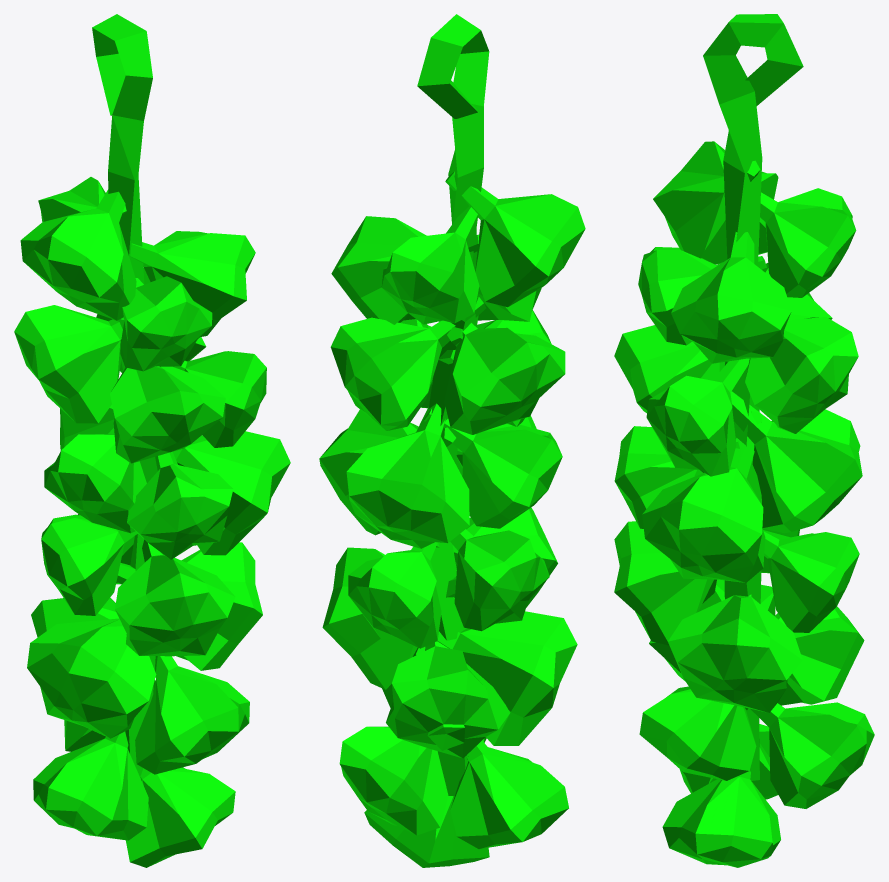
The model's file is SM_Garlic_Bunch.fbx.
3 views of the same model, side by side, from view 1: azimuth 30°, elevation 25°; view 2: azimuth 150°, elevation 25°; view 3: azimuth 270°, elevation 25° (orthographic). The views are drawn at different scales.
Parts seen in each view (by area): view 1: garlic-bunch; view 2: garlic-bunch; view 3: garlic-bunch.
Part boxes in pixels (box(x1,y1,x2,y2)): garlic-bunch: box(14, 14, 290, 867); garlic-bunch: box(319, 14, 585, 867); garlic-bunch: box(614, 14, 874, 867).
Bounding box in the file's own units: 0.191 × 0.6404 × 0.1804.
